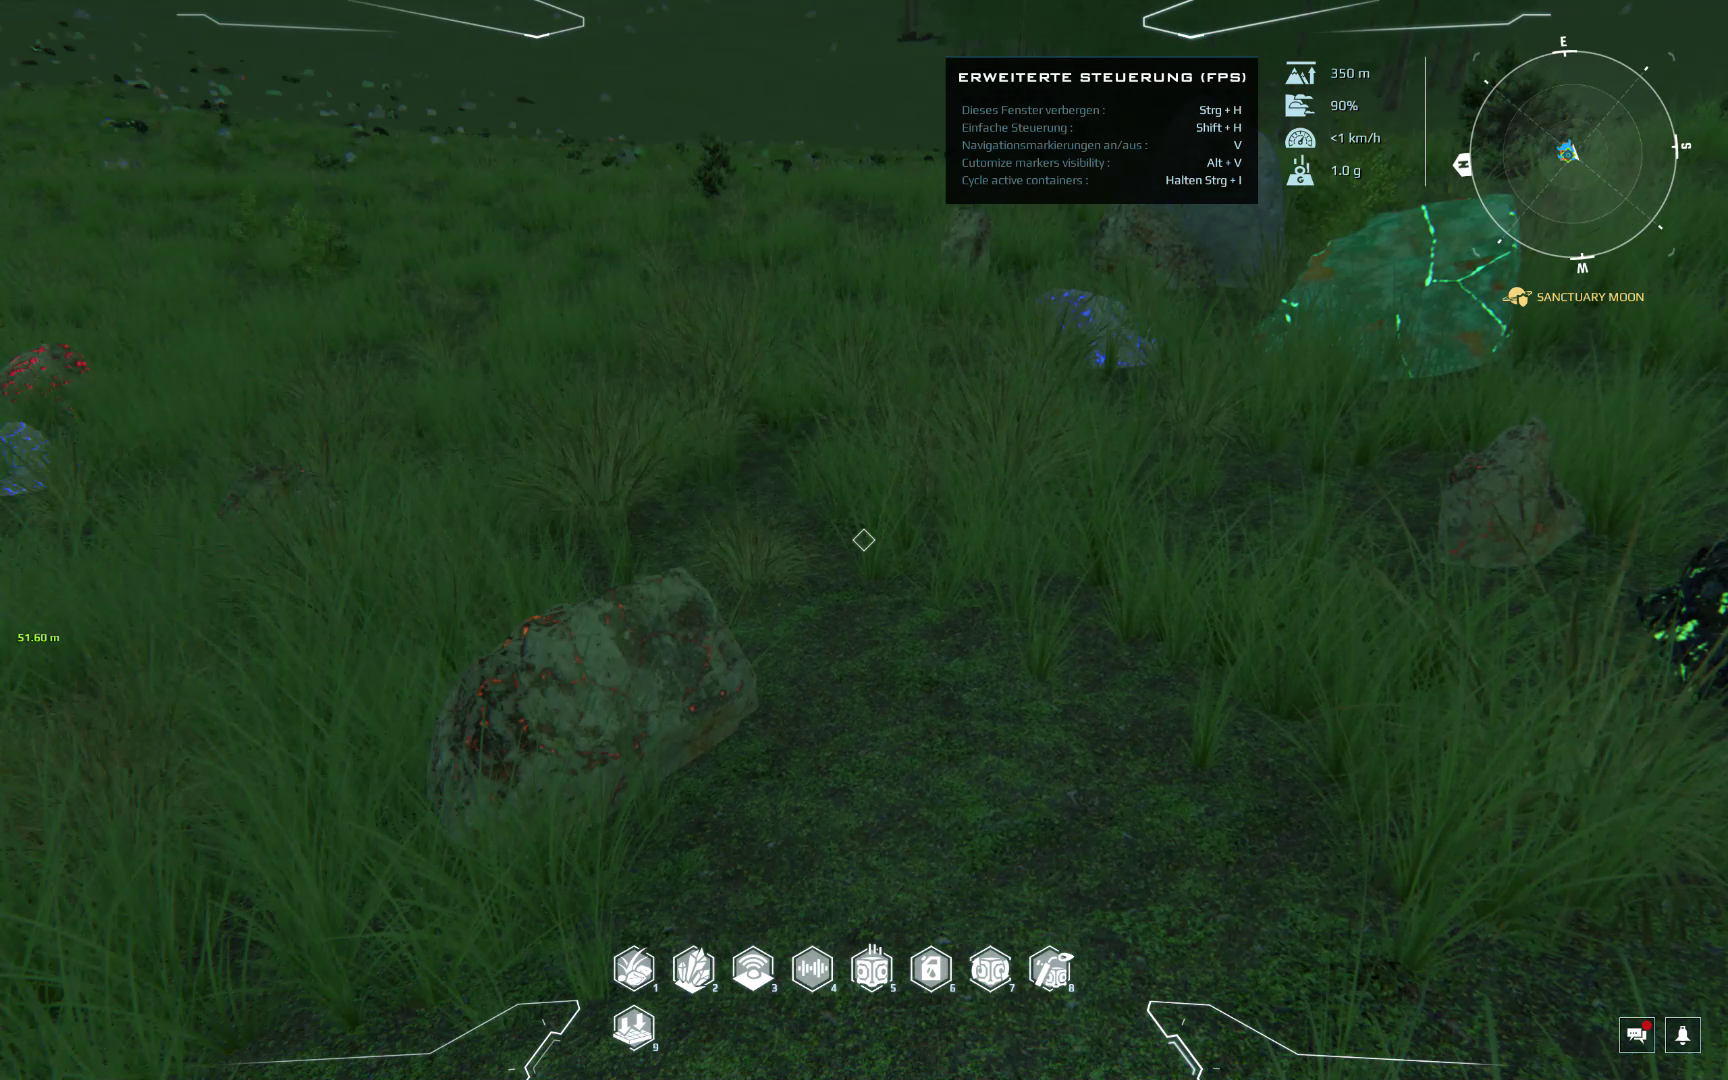Ore: (419, 562, 760, 844), (1261, 193, 1523, 391), (1434, 414, 1590, 579), (1640, 538, 1728, 705), (1036, 277, 1169, 379), (1092, 203, 1215, 297), (933, 192, 1003, 275), (1, 340, 92, 397), (1, 421, 61, 503)
